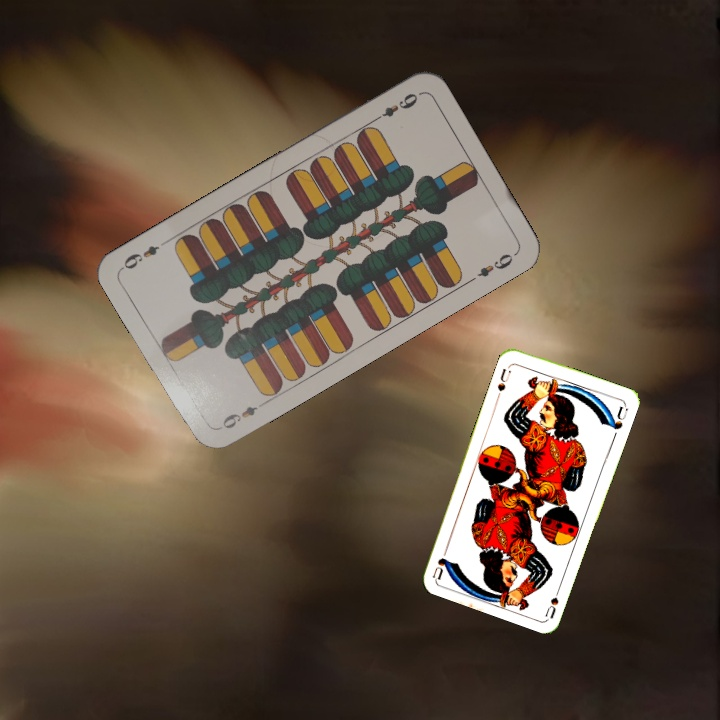E9: (369, 89, 421, 125), (214, 401, 260, 433)
SU: (541, 580, 564, 620), (493, 364, 513, 394)
